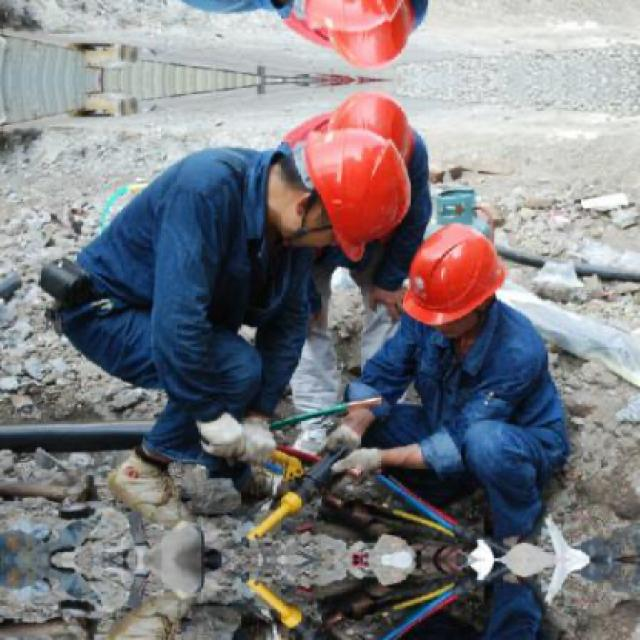helmet: (285, 128, 423, 259), (401, 215, 514, 342), (314, 85, 418, 166), (314, 0, 420, 77), (284, 0, 424, 34)
